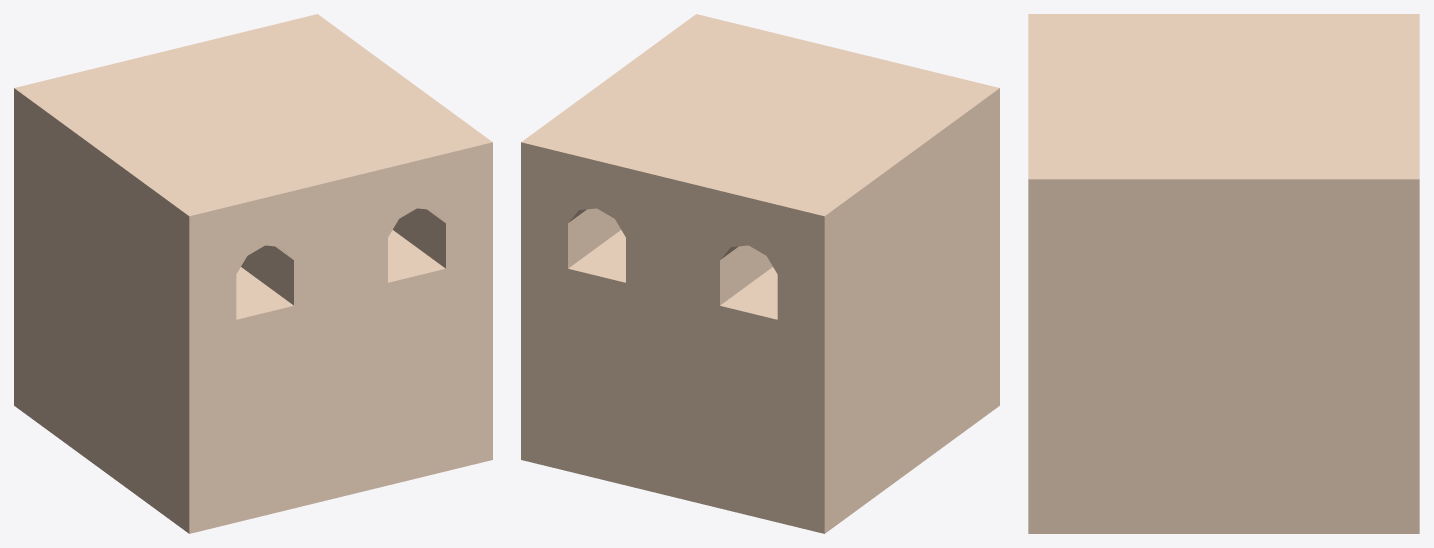
The model's file is Abstract_Modular_Window_Dual_1.0_Beige_01.fbx.
3 renders of one model, left to right at view 1: azimuth 30°, elevation 25°; view 2: azimuth 150°, elevation 25°; view 3: azimuth 270°, elevation 25°, orthographic. The views are drawn at different scales.
Visible parts, largest first — view 1: Abstract_Modular_Window_Dual_1.0_Beige_01; view 2: Abstract_Modular_Window_Dual_1.0_Beige_01; view 3: Abstract_Modular_Window_Dual_1.0_Beige_01.
Boxes of the visible parts, left/top/right/bottom form: Abstract_Modular_Window_Dual_1.0_Beige_01: left=14, top=14, right=492, bottom=533; Abstract_Modular_Window_Dual_1.0_Beige_01: left=521, top=14, right=999, bottom=533; Abstract_Modular_Window_Dual_1.0_Beige_01: left=1028, top=14, right=1419, bottom=533.
Bounding box in the file's own units: 3000 × 3000 × 3000.
